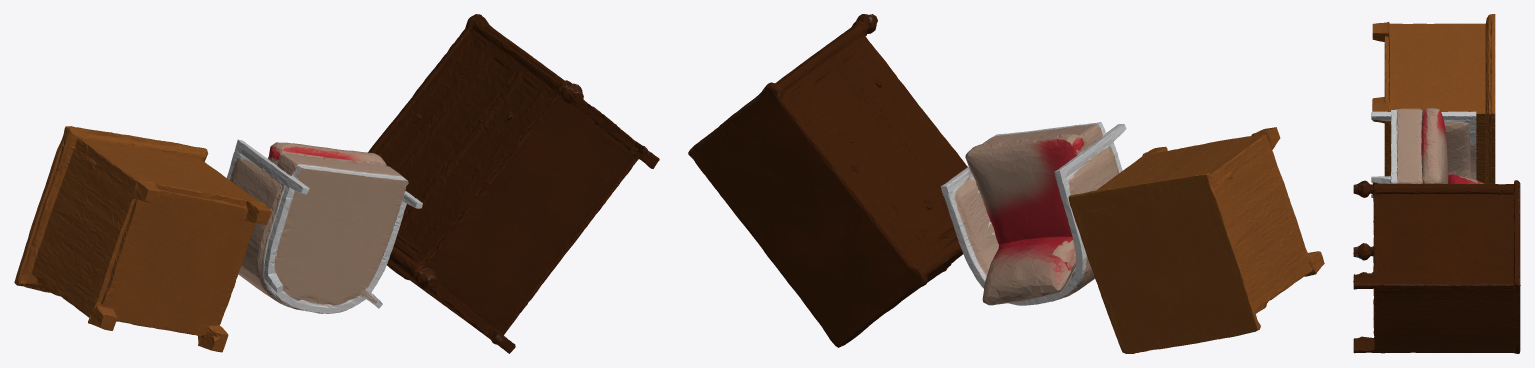
The picture shows the model from 3 angles, left to right: view 1: azimuth 30°, elevation 25°; view 2: azimuth 150°, elevation 25°; view 3: azimuth 270°, elevation 25°; orthographic projection. The views are drawn at different scales.
Visible parts, largest first — view 1: scene_0000006_object_0_textured_scene_0000006_object_0_textu, scene_0000006_object_1_textured_scene_0000006_object_1_textu, scene_0000006_object_2_textured_scene_0000006_object_2_textu; view 2: scene_0000006_object_0_textured_scene_0000006_object_0_textu, scene_0000006_object_1_textured_scene_0000006_object_1_textu, scene_0000006_object_2_textured_scene_0000006_object_2_textu; view 3: scene_0000006_object_0_textured_scene_0000006_object_0_textu, scene_0000006_object_1_textured_scene_0000006_object_1_textu, scene_0000006_object_2_textured_scene_0000006_object_2_textu.
Part boxes in pixels (x1,y1,x2,y2): scene_0000006_object_0_textured_scene_0000006_object_0_textu: [368, 14, 659, 353]; scene_0000006_object_1_textured_scene_0000006_object_1_textu: [14, 126, 271, 352]; scene_0000006_object_2_textured_scene_0000006_object_2_textu: [227, 139, 422, 313]; scene_0000006_object_0_textured_scene_0000006_object_0_textu: [688, 14, 967, 347]; scene_0000006_object_1_textured_scene_0000006_object_1_textu: [1068, 127, 1324, 353]; scene_0000006_object_2_textured_scene_0000006_object_2_textu: [941, 122, 1126, 305]; scene_0000006_object_0_textured_scene_0000006_object_0_textu: [1353, 180, 1520, 353]; scene_0000006_object_1_textured_scene_0000006_object_1_textu: [1372, 14, 1495, 183]; scene_0000006_object_2_textured_scene_0000006_object_2_textu: [1371, 108, 1484, 247].
Bounding box in the file's own units: 2.6 × 1.11 × 0.8405.
3 materials, 3 textured.
